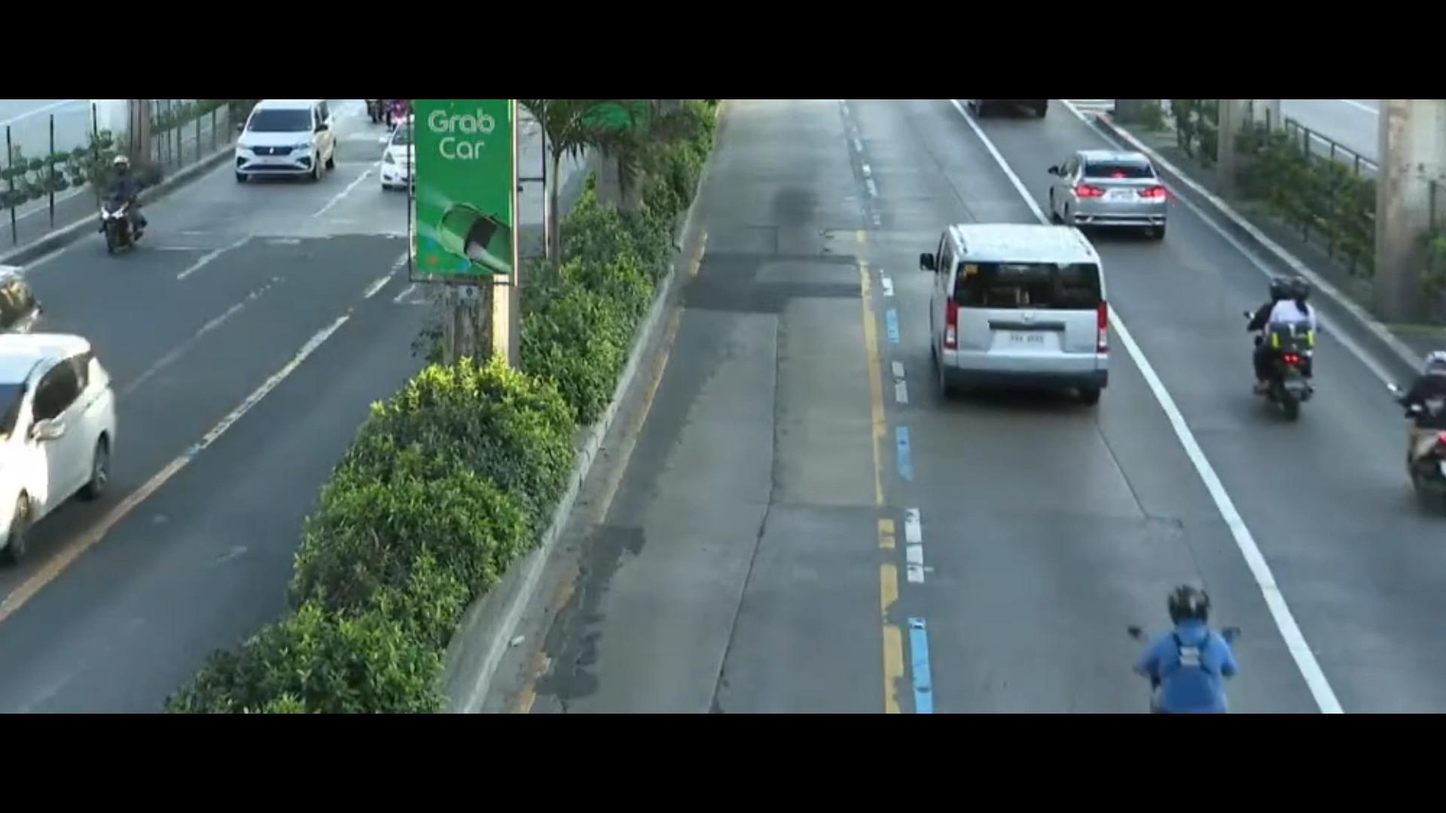Motorcycle: (1134, 555, 1296, 707), (1222, 272, 1359, 428), (85, 131, 181, 270), (1381, 342, 1446, 521)
SUV: (0, 314, 141, 553), (216, 103, 349, 198)
Sedan: (1039, 141, 1185, 240)
Van: (917, 201, 1135, 430)
